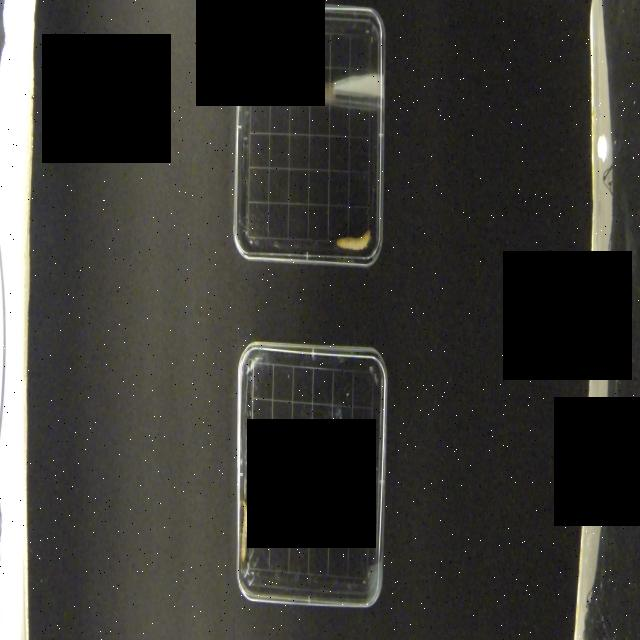larva: (336, 229, 371, 251), (240, 501, 250, 564)
